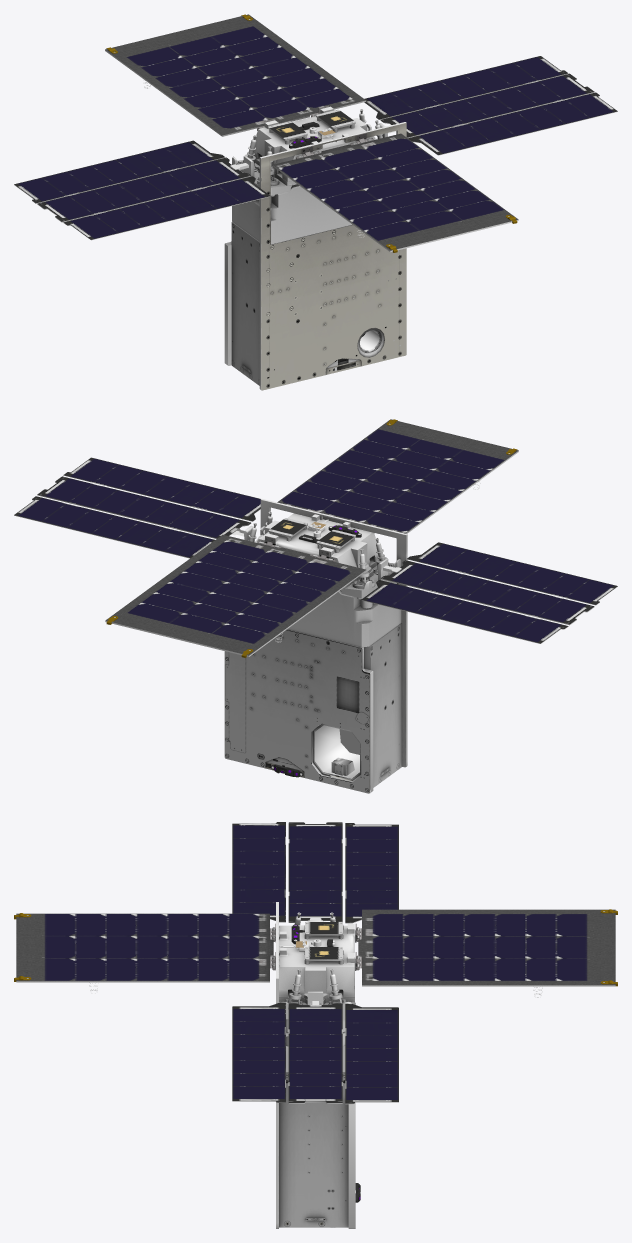
Rendered from lunar-flashlight.glb.
3 views of the same model, one above another, from view 1: azimuth 30°, elevation 25°; view 2: azimuth 150°, elevation 25°; view 3: azimuth 270°, elevation 25° (orthographic). The views are drawn at different scales.
Visible parts, largest first — view 1: baked_LP, baked_LP.001, baked_LP.002, lunar_flashlight; view 2: baked_LP, baked_LP.001, baked_LP.002, lunar_flashlight; view 3: baked_LP, baked_LP.002, baked_LP.001, lunar_flashlight.
Boxes of the visible parts, left/top/right/bottom form: baked_LP: left=105, top=14, right=518, bottom=390; baked_LP.001: left=14, top=140, right=270, bottom=240; baked_LP.002: left=364, top=56, right=617, bottom=155; lunar_flashlight: left=105, top=50, right=518, bottom=389; baked_LP: left=105, top=419, right=518, bottom=793; baked_LP.001: left=361, top=542, right=617, bottom=643; baked_LP.002: left=14, top=457, right=260, bottom=558; lunar_flashlight: left=105, top=451, right=518, bottom=792; baked_LP: left=16, top=909, right=615, bottom=1227; baked_LP.002: left=232, top=1002, right=398, bottom=1104; baked_LP.001: left=232, top=822, right=398, bottom=923; lunar_flashlight: left=16, top=902, right=615, bottom=1228.
Bounding box in the file's own units: 0.8745 × 0.365 × 0.7959.
Materials: 11 (3 with a texture image).
